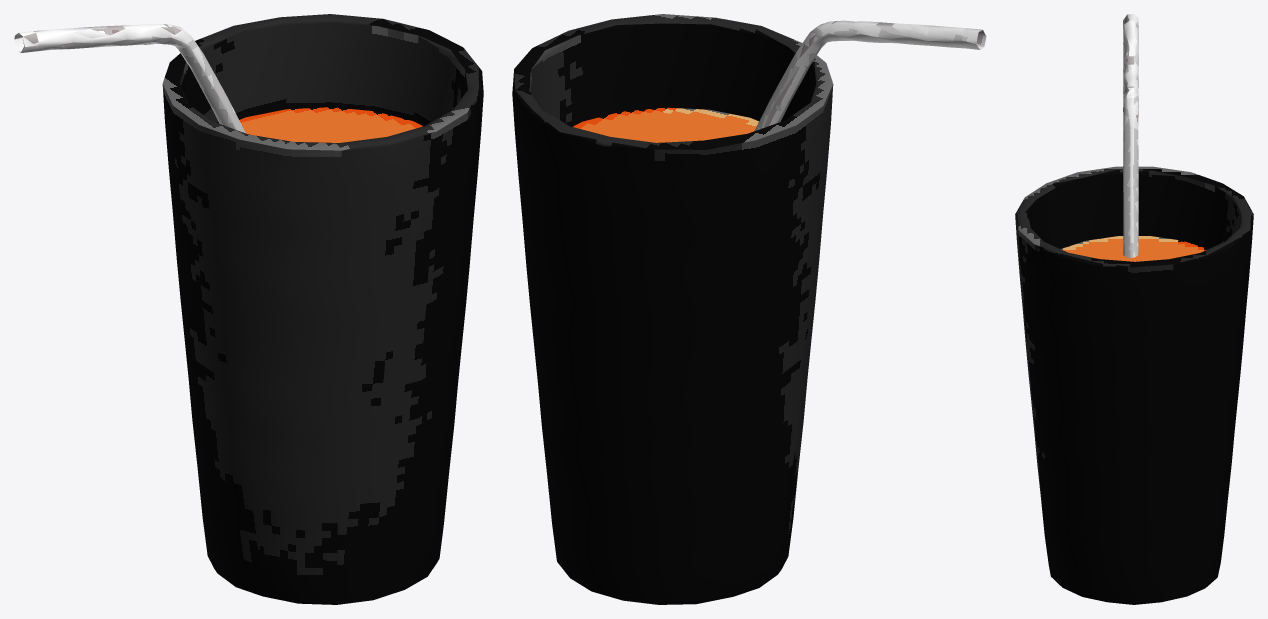
File: tea_glass.glb
3 renders of one model, left to right at view 1: azimuth 30°, elevation 25°; view 2: azimuth 150°, elevation 25°; view 3: azimuth 270°, elevation 25°, orthographic. The views are drawn at different scales.
Parts seen in each view (by area): view 1: mesh; view 2: mesh; view 3: mesh.
Part boxes in pixels (left/top/right/bottom): mesh: left=14, top=14, right=483, bottom=604; mesh: left=512, top=14, right=986, bottom=604; mesh: left=1015, top=14, right=1253, bottom=604.
Bounding box in the file's own units: 0.0858 × 0.11 × 0.0534.
Materials: 1 (1 with a texture image).
